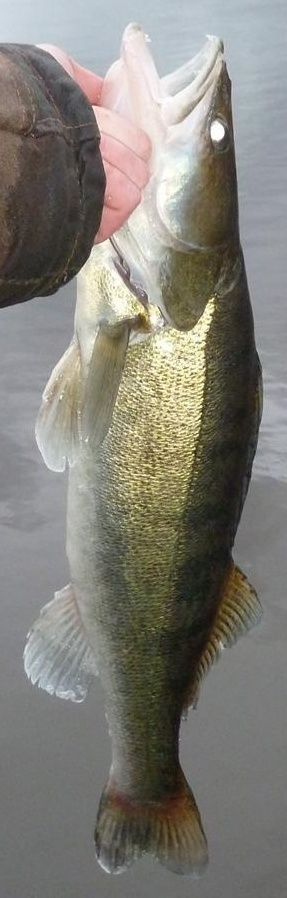Sander lucioperca: (20, 20, 267, 878)
